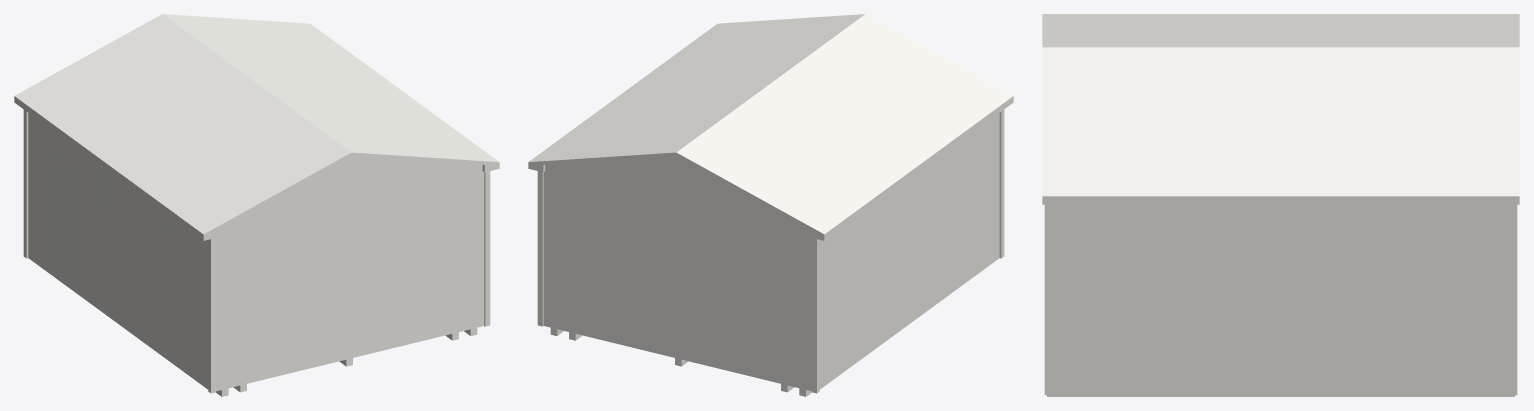
Rendered from 8 wide A-frame_7ft_14x16.obj.
3 views of the same model, side by side, from view 1: azimuth 30°, elevation 25°; view 2: azimuth 150°, elevation 25°; view 3: azimuth 270°, elevation 25° (orthographic). The views are drawn at different scales.
Visible parts, largest first — view 1: Shed, Roof, Sides, Trim; view 2: Shed, Roof, Sides, Trim; view 3: Shed, Roof, Sides, Trim, Floor.
Boxes of the visible parts, x1,y1,x2,y2 form: Shed: (28, 113, 484, 391); Roof: (15, 14, 498, 234); Sides: (14, 96, 499, 240); Trim: (23, 109, 490, 393); Shed: (543, 113, 999, 391); Roof: (529, 14, 1012, 234); Sides: (528, 96, 1013, 240); Trim: (537, 109, 1004, 393); Shed: (1052, 204, 1509, 394); Roof: (1042, 14, 1519, 196); Sides: (1042, 196, 1519, 204); Trim: (1044, 204, 1517, 395); Floor: (1047, 394, 1514, 396).
Size of the model in its own units: 4.5 by 3.12 by 4.98.
